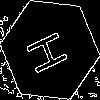H: (25, 25, 77, 77)
